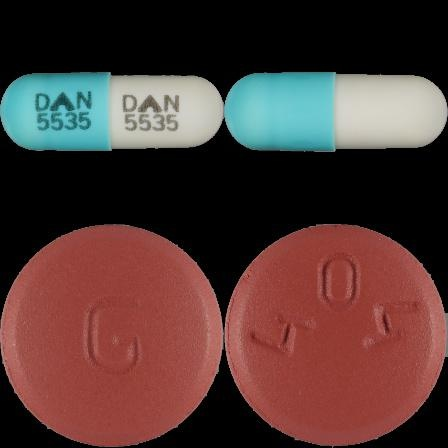33261-899: (0, 0, 224, 224)
